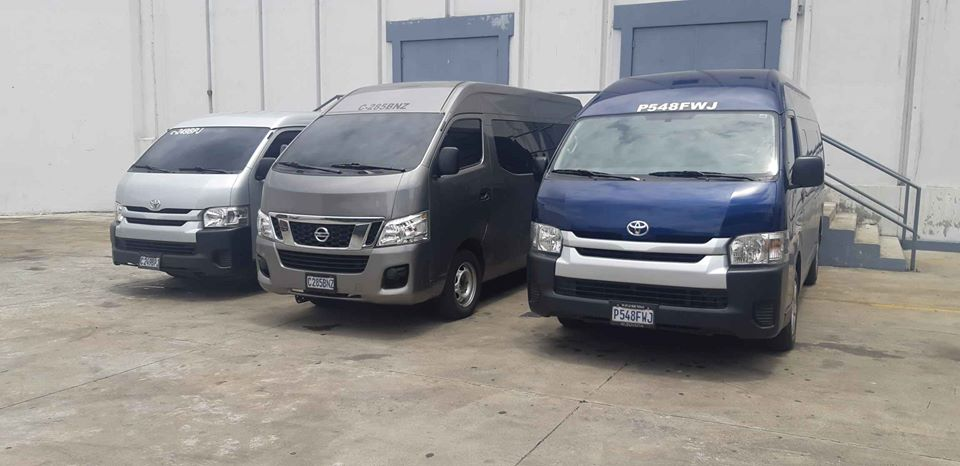bus: (531, 69, 829, 354), (268, 75, 528, 342), (106, 108, 264, 293)
